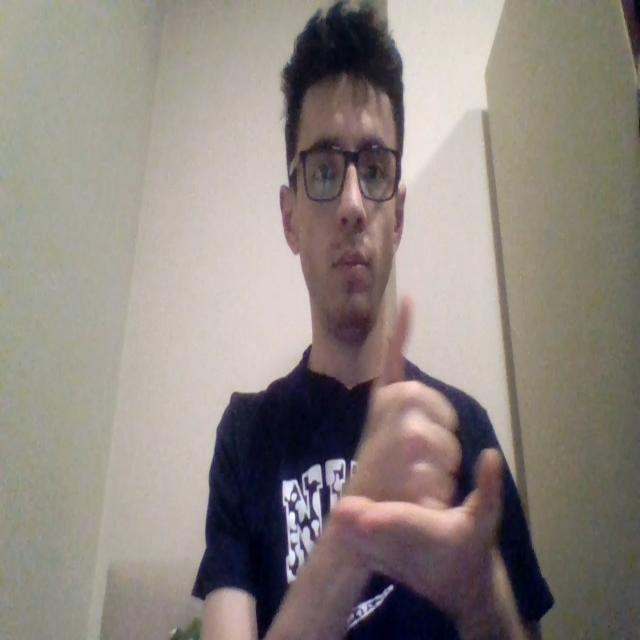help: (331, 292, 509, 607)
